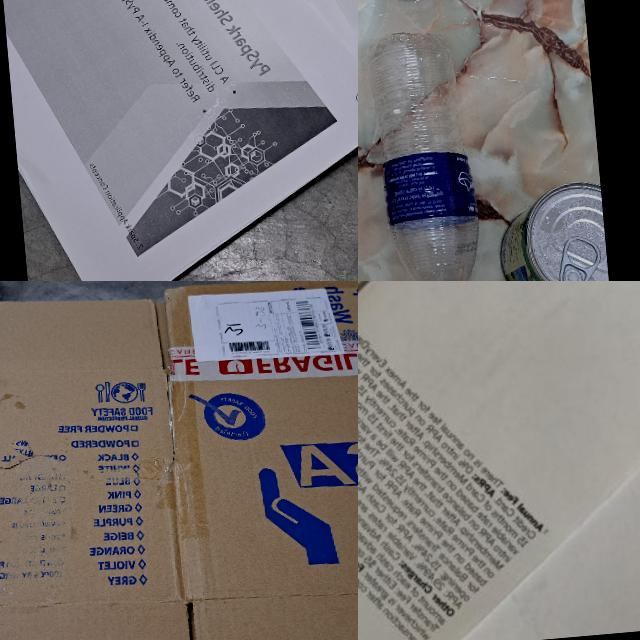aba de lata: (553, 231, 601, 281)
garrafa plástica: (365, 24, 485, 281)
lata: (494, 177, 611, 281)
papel: (358, 281, 640, 640), (0, 0, 358, 281)
papelão: (0, 281, 358, 640)
